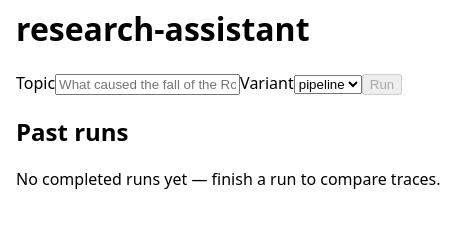
Scenario: App › submitting a topic starts polling and shows the running state
This screenshot has width=457, height=244.
Expected: the dropdown shows "pipeline", [294,75,362,94]
In the field labelled "Topic": (148, 84) [55,74,240,95], type "a topic"
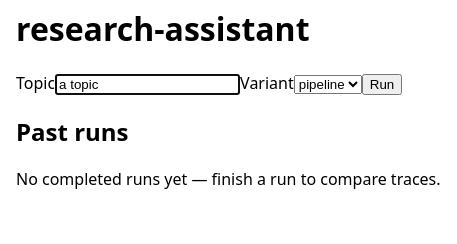
Click the button "Run": (382, 84) [362,74,402,95]
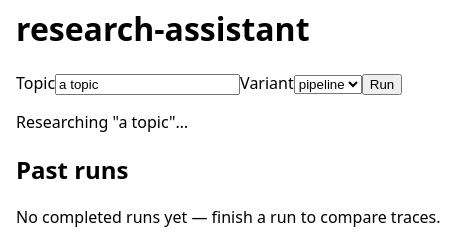
Expected: the text "Researching \"a topic\"…" is shown, [16,111,188,133]
